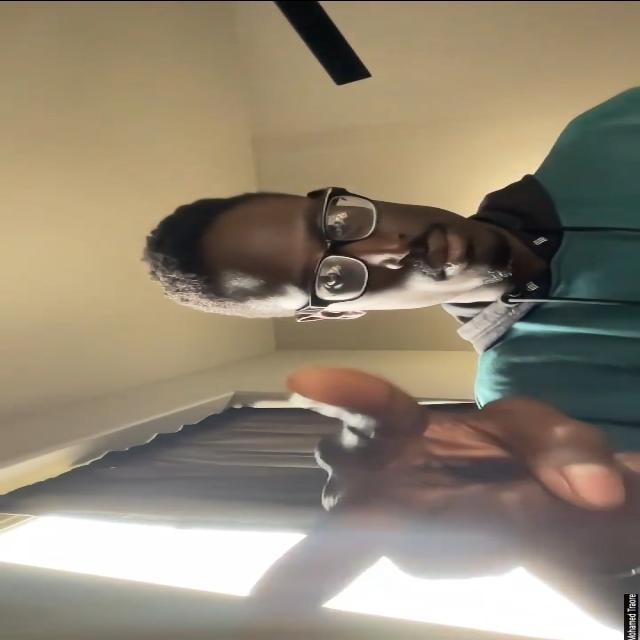Scissors: (241, 365, 635, 634)
